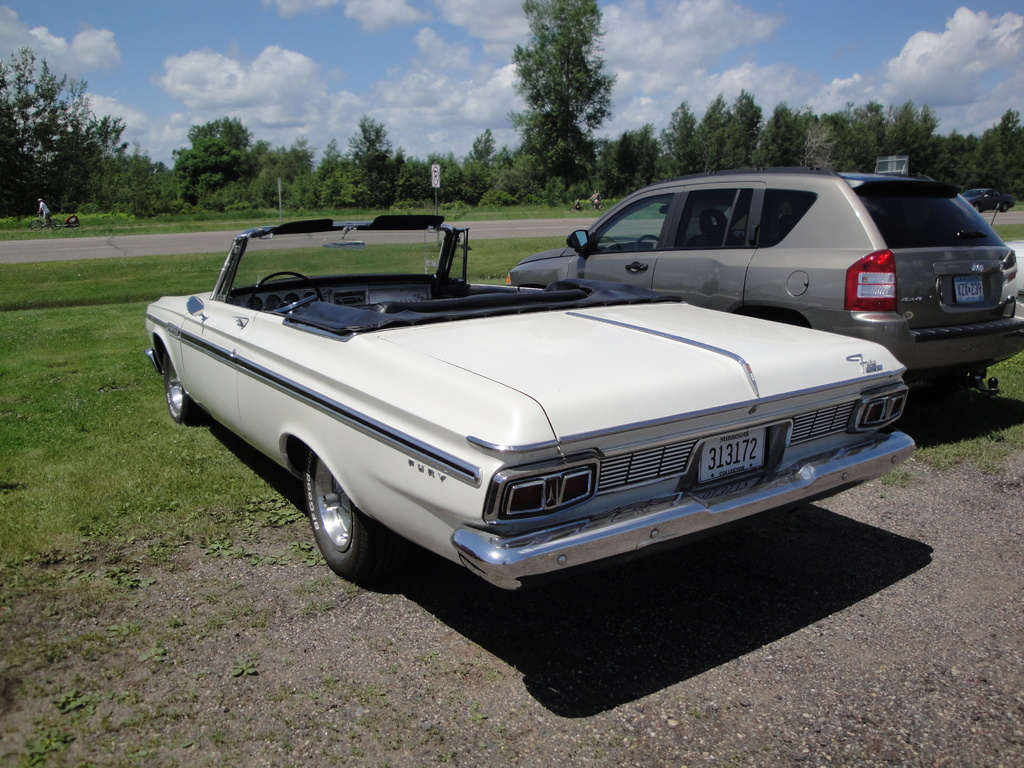Car: (138, 216, 915, 573), (498, 167, 1023, 399)
